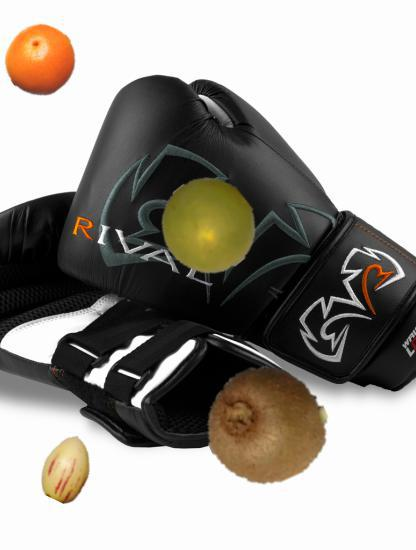Grape: (160, 177, 258, 275)
Grapefruit: (4, 24, 77, 97)
Kiwi: (205, 364, 326, 485)
Pepino: (34, 435, 101, 502)
